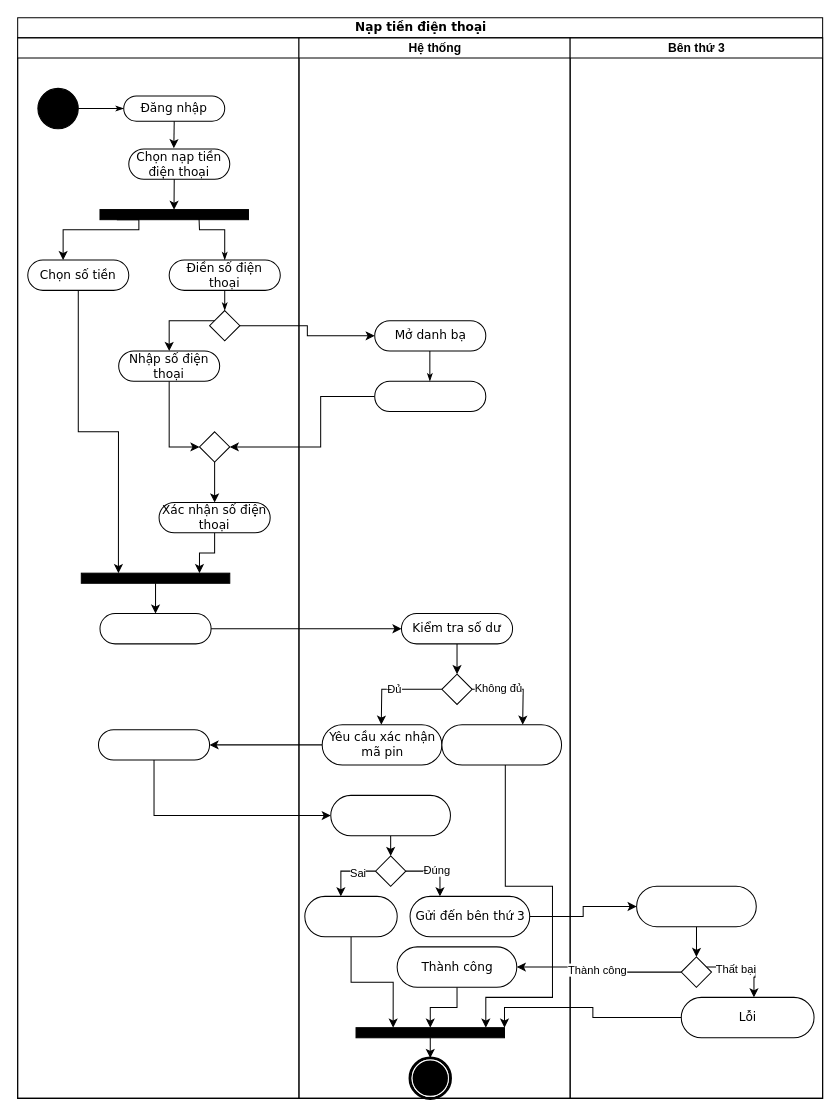
Image size: 840x1116. Some labels were removed from this diagram. Each missing label, with the box of its shape:
Chọn số điện thoại: (374, 380, 486, 412)
Khách hàng: (17, 37, 299, 1098)
Nhập mã pin: (97, 729, 210, 760)
Nạp tiền: (99, 613, 211, 644)
Sai mã pin: (304, 895, 397, 937)
Thông báo lỗi: (441, 724, 562, 765)
Xác nhận mã pin: (330, 794, 450, 836)
Xử lý yêu cầu: (636, 885, 756, 927)
